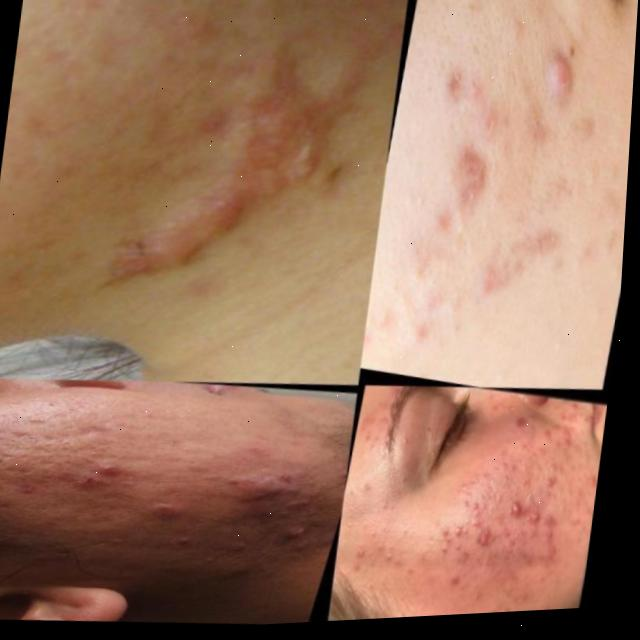Acne: (16, 0, 394, 330), (382, 21, 624, 360), (0, 374, 346, 604), (416, 416, 604, 616)
